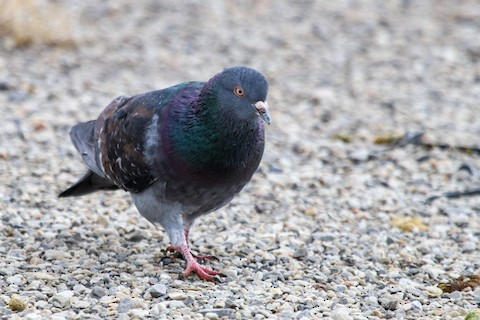pigeon: (52, 64, 278, 286)
